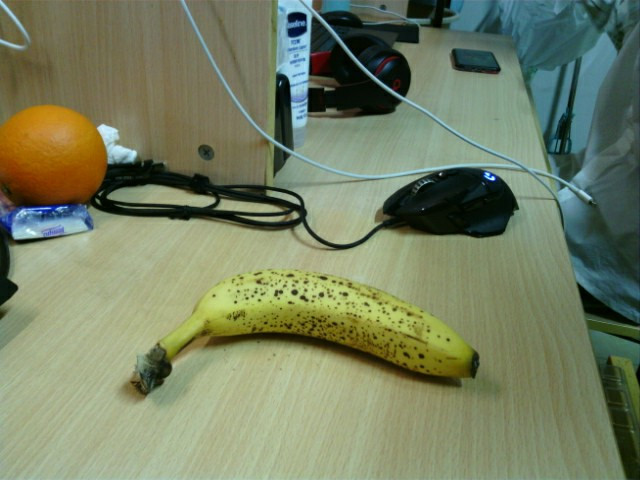normal_banana: (129, 267, 480, 400)
normal_orange: (4, 104, 105, 199)
